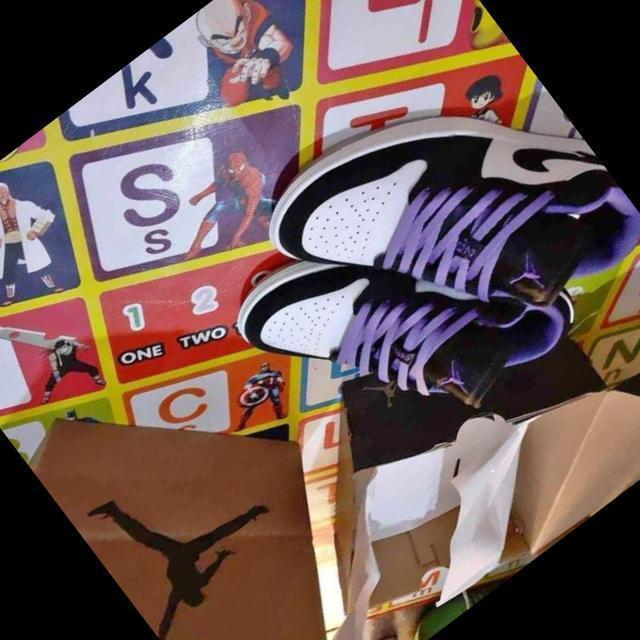nike fake jordan 1: (248, 20, 640, 418), (220, 140, 590, 500)
